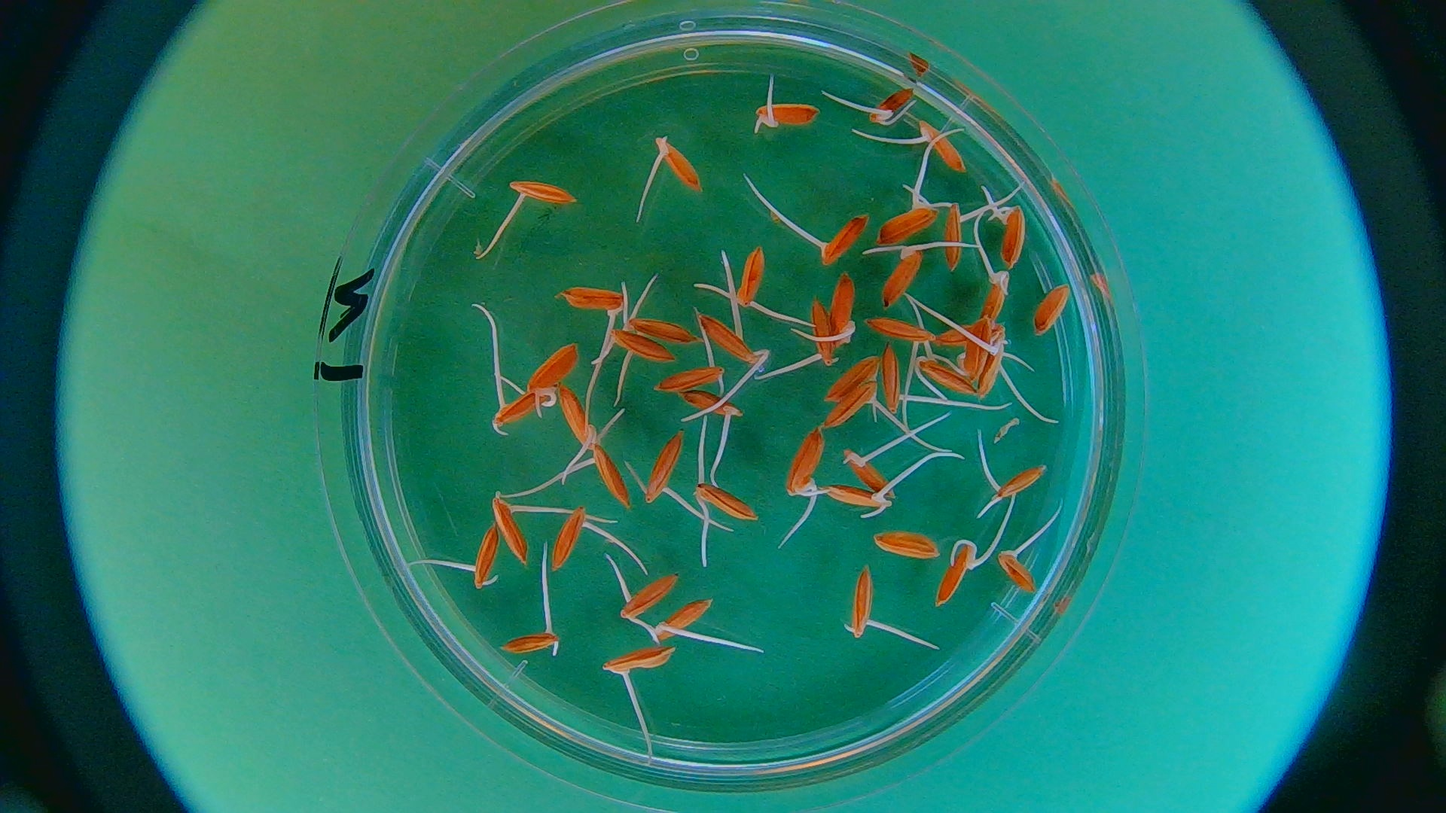no: (874, 528, 944, 560), (862, 314, 935, 344), (623, 314, 695, 341), (1031, 282, 1069, 333), (932, 322, 1003, 349)
yes: (582, 446, 633, 510), (932, 537, 978, 604), (523, 339, 575, 397), (554, 382, 600, 447), (642, 430, 682, 501), (827, 349, 885, 397), (915, 355, 977, 399), (918, 123, 970, 175), (654, 137, 703, 192), (784, 426, 823, 495), (651, 598, 709, 644), (880, 343, 916, 416), (702, 317, 756, 365), (695, 483, 758, 524), (821, 483, 896, 517), (554, 284, 628, 318), (883, 250, 926, 308), (623, 570, 676, 617), (601, 644, 674, 678), (491, 498, 528, 562), (846, 567, 878, 640), (818, 217, 867, 264), (829, 384, 886, 424), (468, 524, 501, 592), (488, 389, 541, 431), (682, 389, 743, 425), (552, 507, 587, 569), (996, 547, 1039, 597), (654, 364, 724, 394), (862, 86, 916, 124), (828, 278, 859, 344), (880, 206, 931, 245), (759, 96, 817, 130), (960, 322, 993, 381), (978, 268, 1011, 327), (738, 245, 768, 309), (502, 623, 560, 656), (843, 452, 894, 489), (806, 297, 836, 359), (608, 329, 667, 360), (981, 327, 1007, 397), (996, 206, 1026, 266), (509, 181, 575, 206), (993, 470, 1048, 499), (945, 203, 966, 266)
